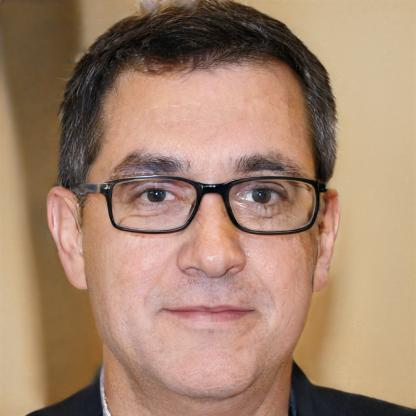glasses: (95, 168, 322, 242)
